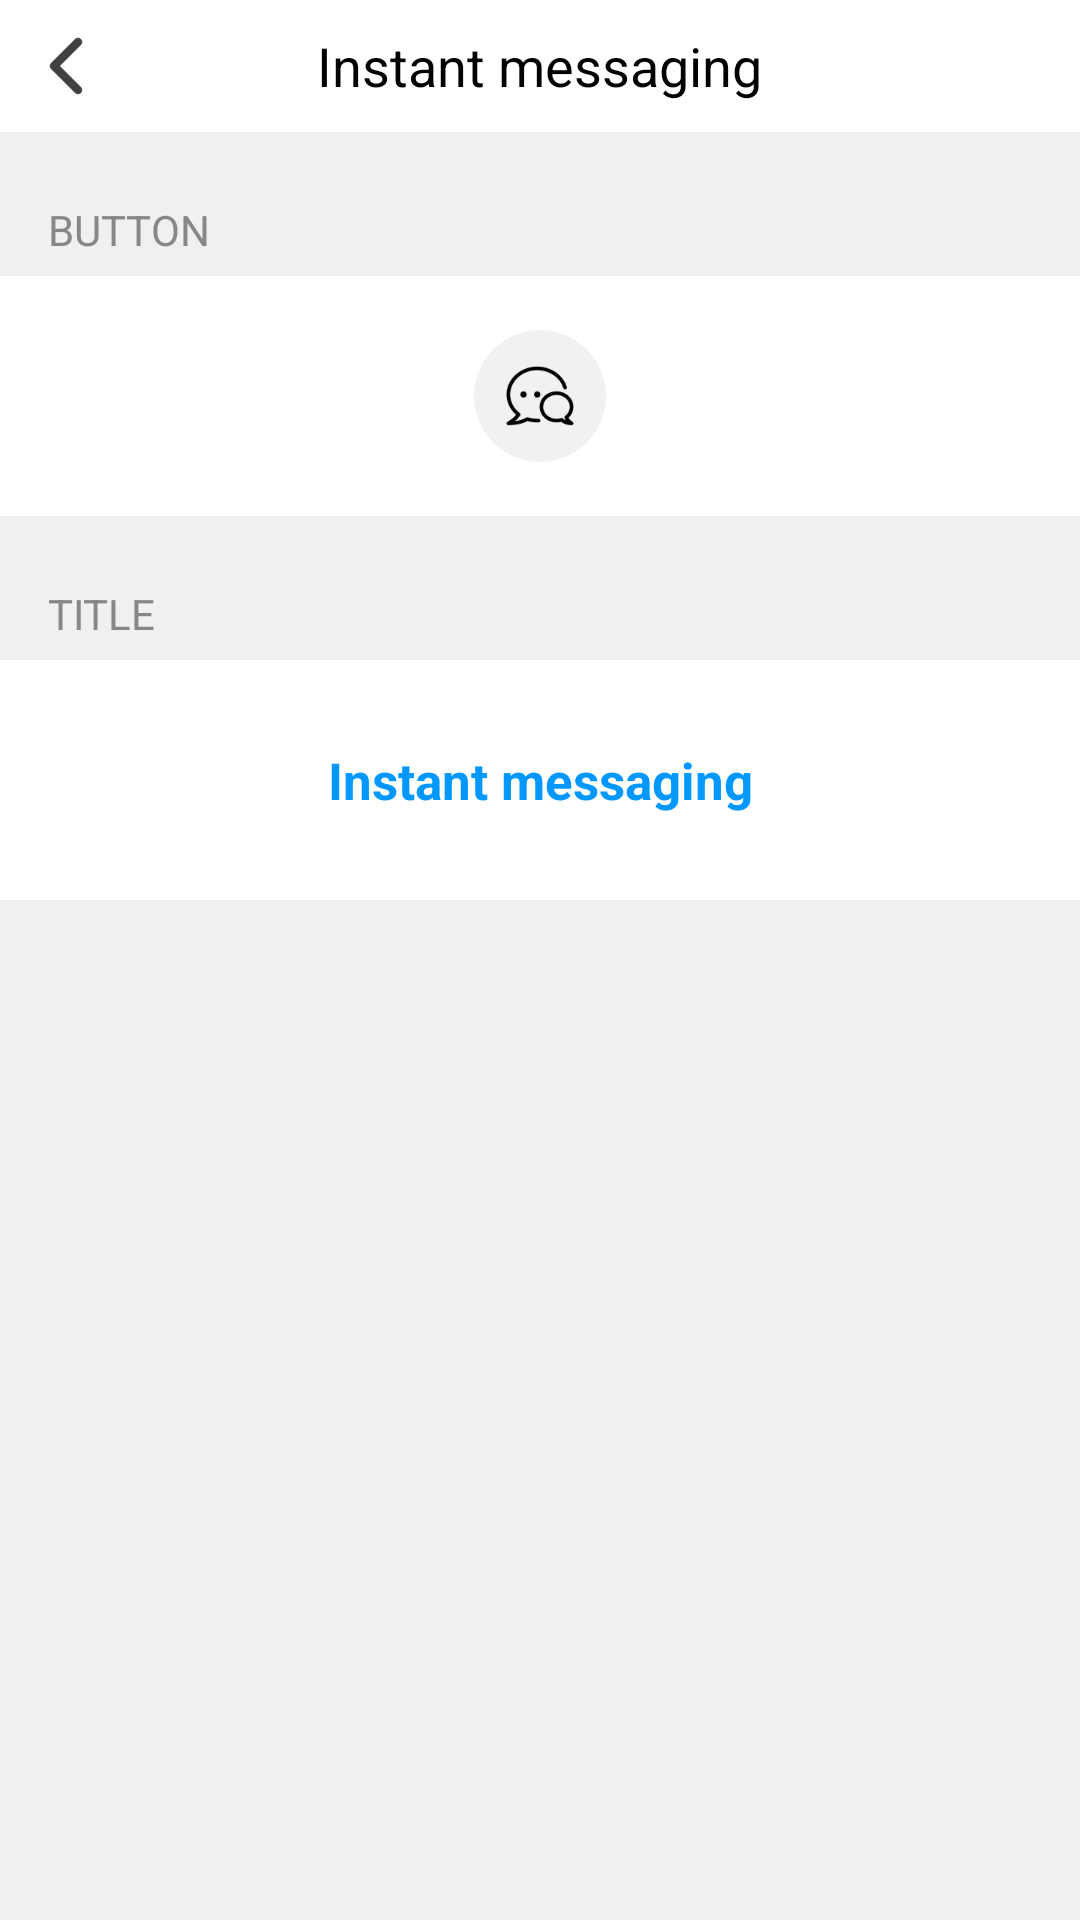

Icon bounding boxes for this 1080px x 1920px phone screenshot, format (x1, y1, x2, y2):
back: (49, 37, 83, 95)
message: (474, 330, 606, 462)
